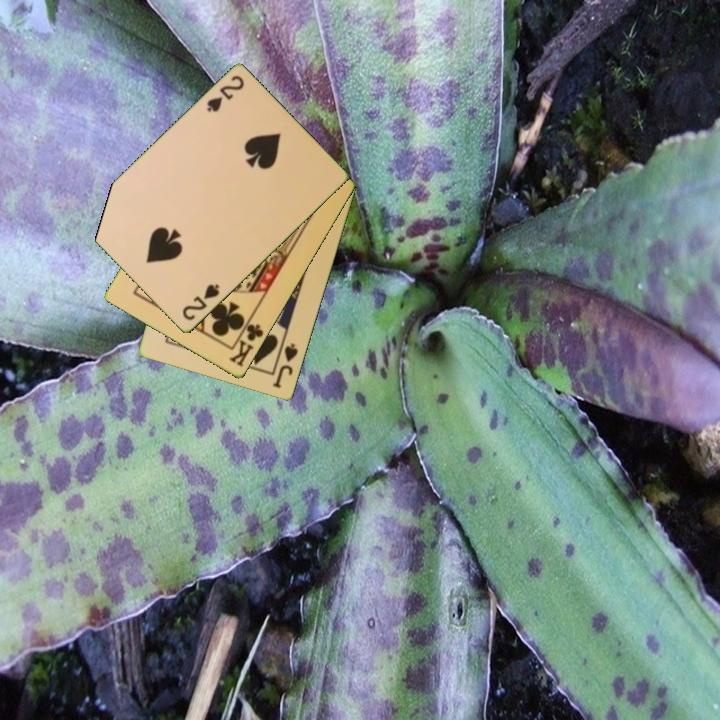2s: (179, 280, 222, 324), (203, 72, 247, 115)
Js: (269, 340, 301, 391)
Kc: (226, 314, 267, 370)
